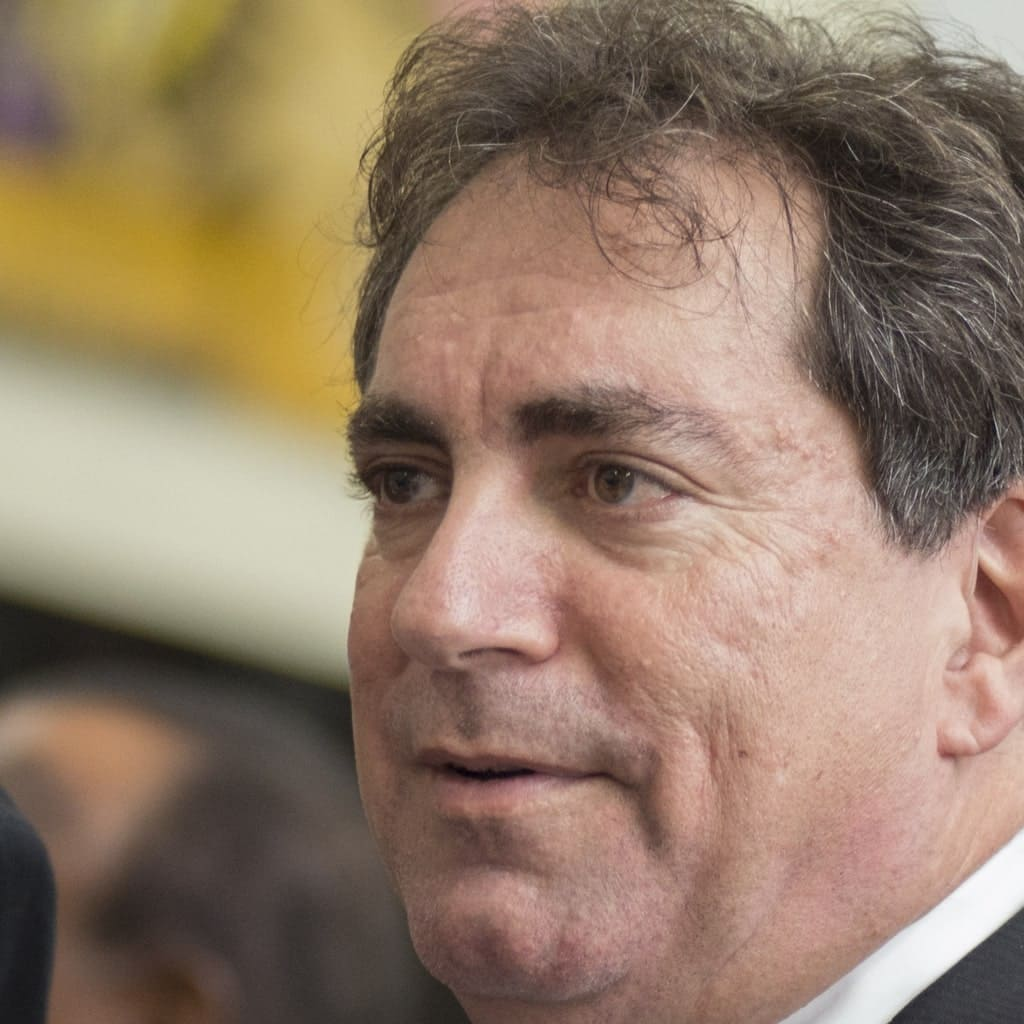without_mask: (329, 249, 846, 987)
